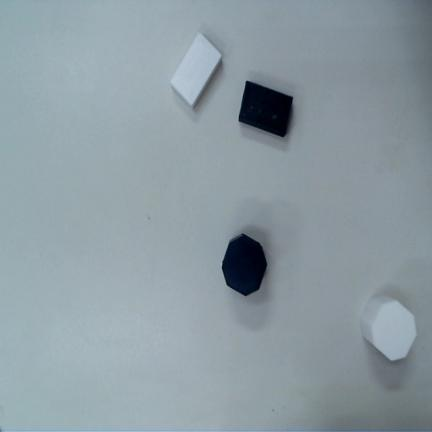Paralelepipedo: (170, 32, 221, 108), (238, 80, 293, 137)
Prisma_hexagonal: (360, 295, 417, 360), (221, 233, 267, 296)
